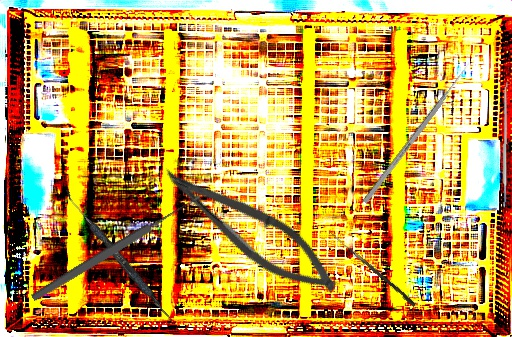Hook Surgical: (325, 231, 418, 307)
Micro Scissor: (147, 156, 352, 306)
Pusher: (362, 61, 472, 205)
Scalpel Handle: (501, 81, 509, 208)
Spatula Surgical: (59, 189, 179, 325)
Surgical Spoon: (29, 192, 204, 304)
